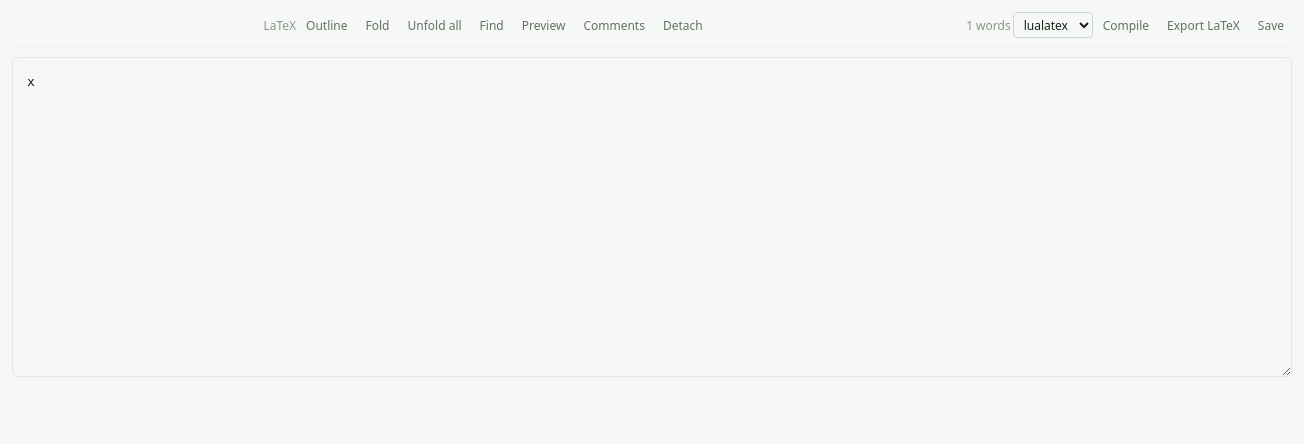
compiling a manuscript › offers the document when one was produced
Click the button "Compile" at (1126, 25), box [1095,12,1157,38]
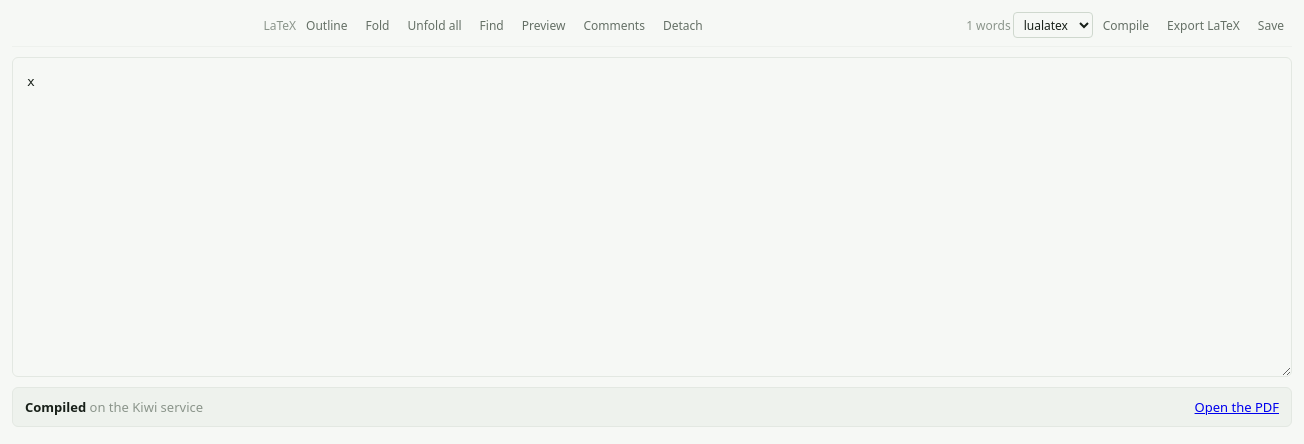
Expected: the link "Open the PDF" is shown, [1195,398,1279,416]
